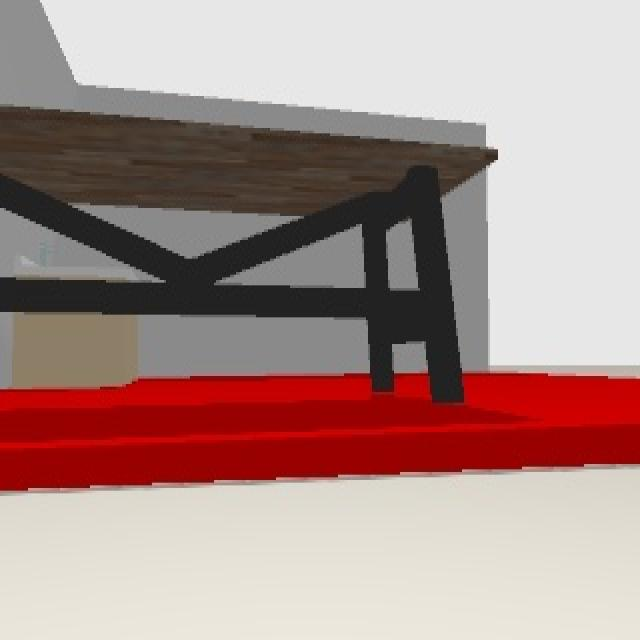dining: (1, 101, 498, 404)
